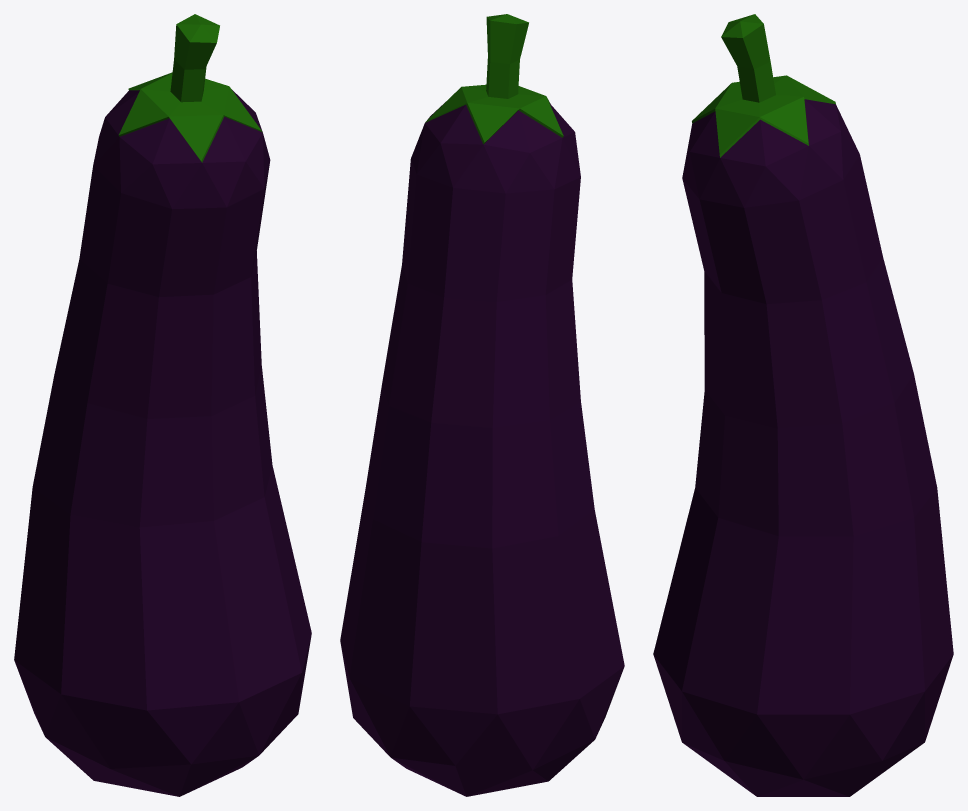
File: eggplant.fbx
3 views of the same model, side by side, from view 1: azimuth 30°, elevation 25°; view 2: azimuth 150°, elevation 25°; view 3: azimuth 270°, elevation 25° (orthographic). The views are drawn at different scales.
Visible parts, largest first — view 1: Icosphere; view 2: Icosphere; view 3: Icosphere.
Part boxes in pixels (<box>): Icosphere: <box>14,14,311,796</box>; Icosphere: <box>340,14,624,796</box>; Icosphere: <box>653,14,953,796</box>.
Size of the model in its own units: 431 by 1285 by 453.
